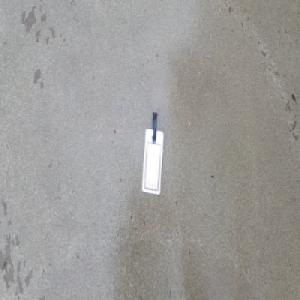LuggageTag: (141, 110, 164, 197)
